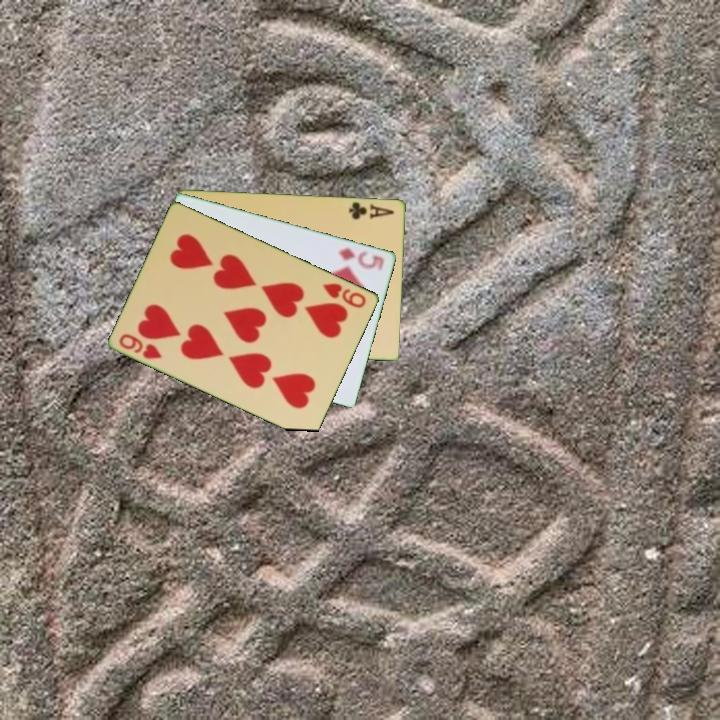5d: (335, 243, 387, 274)
9h: (319, 279, 369, 311), (116, 330, 165, 362)
Ac: (346, 198, 397, 222)
